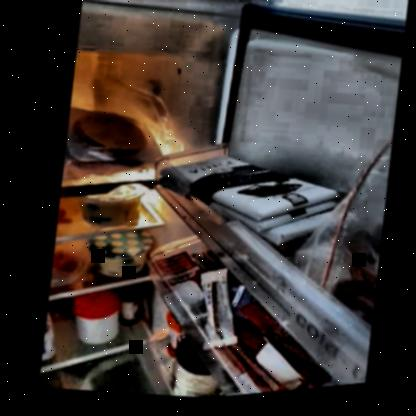chocolate: (157, 145, 335, 241)
salami: (68, 105, 150, 163)
yoghurt: (81, 231, 149, 285), (75, 191, 142, 234)
